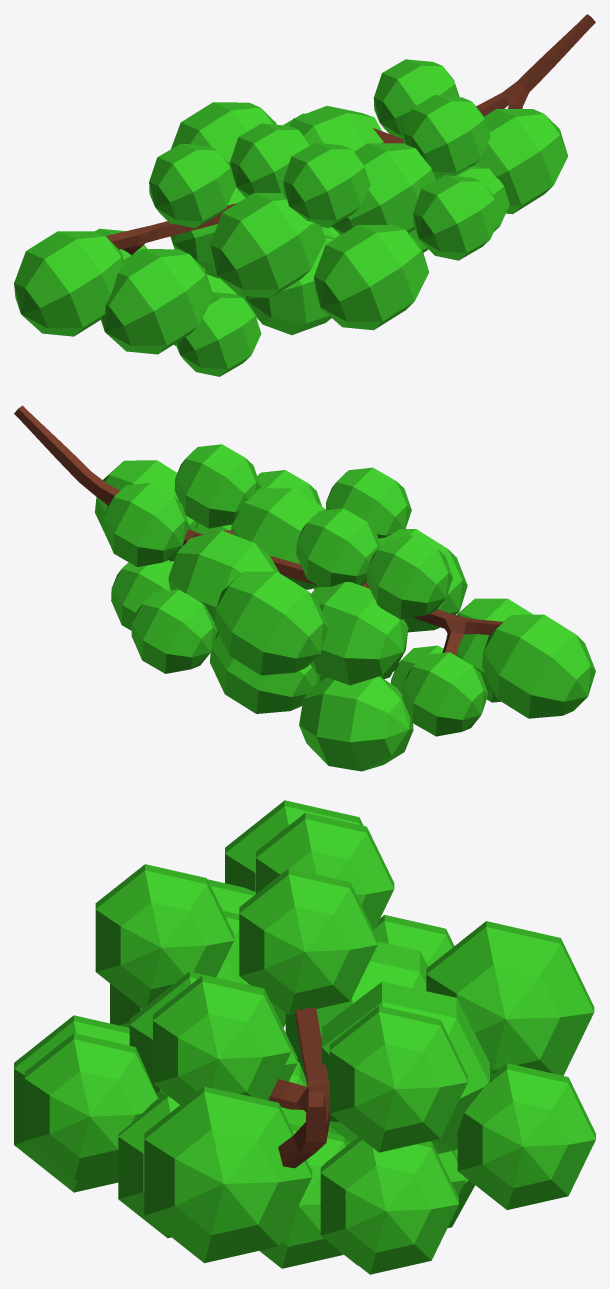
Rendered from Druif.fbx.
The picture shows the model from 3 angles, top to bottom: view 1: azimuth 30°, elevation 25°; view 2: azimuth 150°, elevation 25°; view 3: azimuth 270°, elevation 25°; orthographic projection. The views are drawn at different scales.
Parts seen in each view (by area): view 1: druif.010, Tak; view 2: druif.010, Tak; view 3: druif.010, Tak.
Boxes of the visible parts, left/top/right/bottom form: druif.010: left=14, top=59, right=568, bottom=376; Tak: left=106, top=14, right=595, bottom=255; druif.010: left=95, top=444, right=595, bottom=771; Tak: left=14, top=405, right=503, bottom=655; druif.010: left=14, top=800, right=595, bottom=1274; Tak: left=268, top=1007, right=331, bottom=1168.
Bounding box in the file's own units: 17.67 × 7.57 × 8.92.
